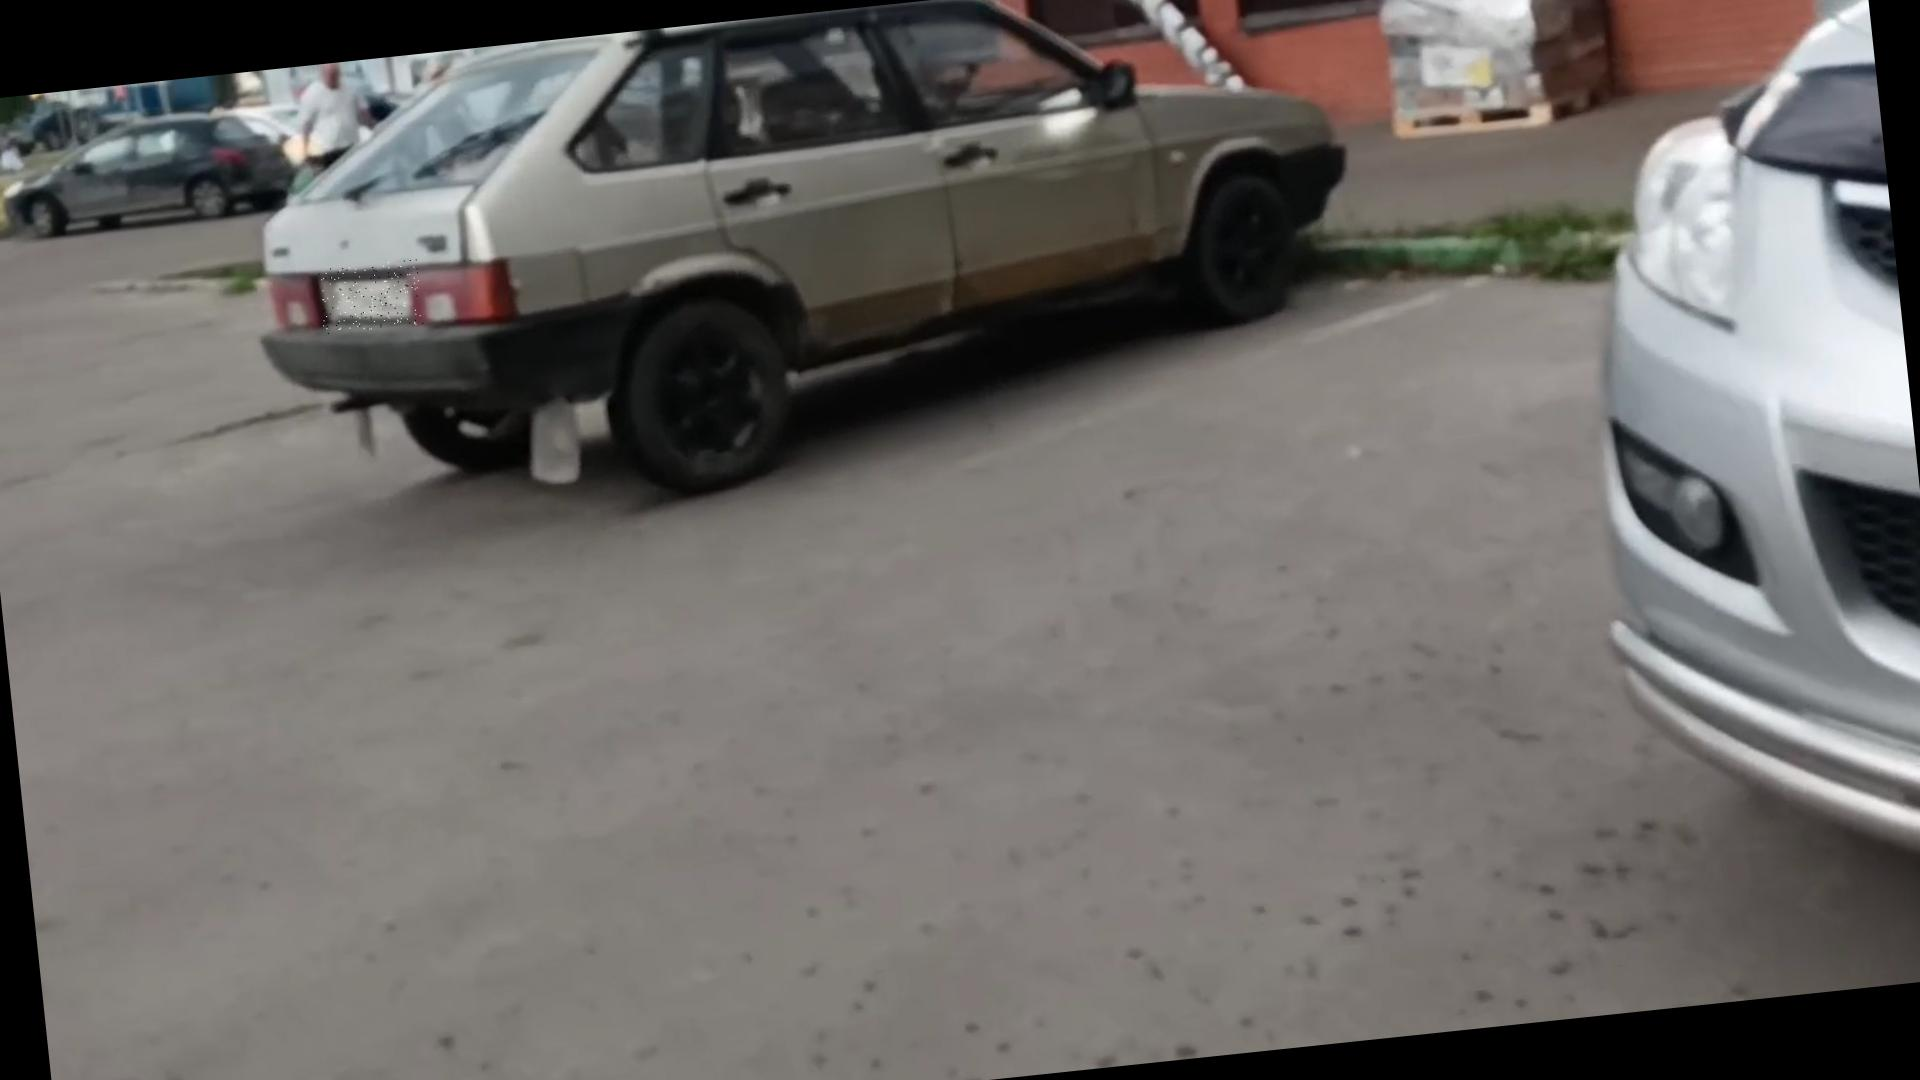plate: (320, 260, 427, 335)
